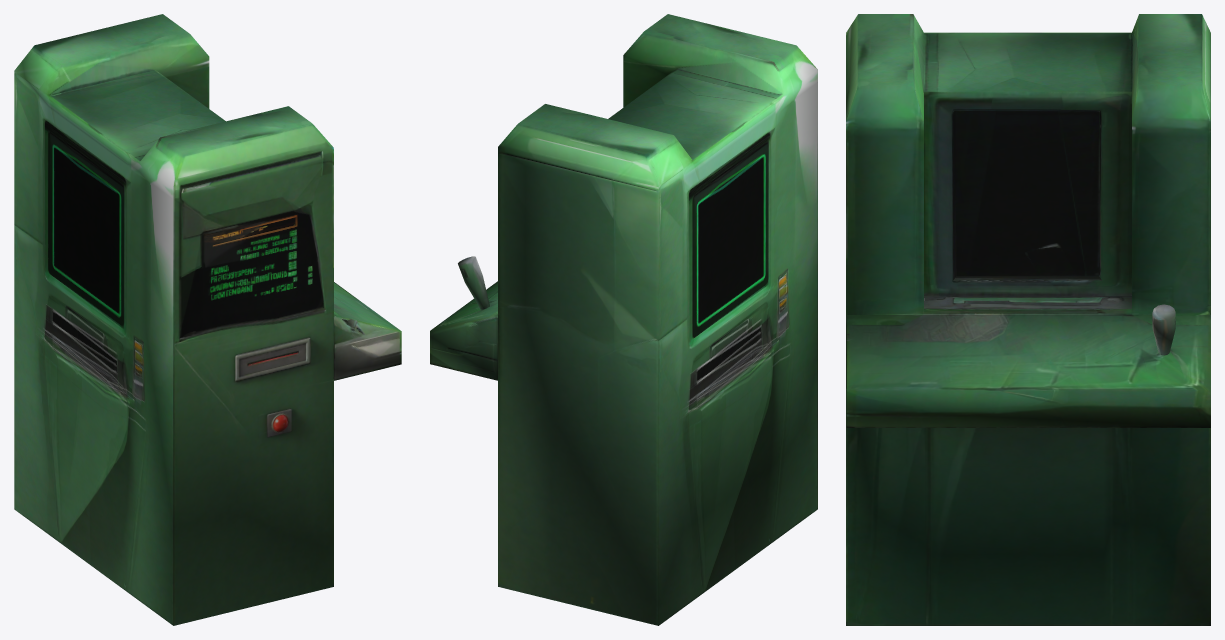
Rendered from _0609191516_texture.fbx.
The picture shows the model from 3 angles, left to right: view 1: azimuth 30°, elevation 25°; view 2: azimuth 150°, elevation 25°; view 3: azimuth 270°, elevation 25°; orthographic projection. The views are drawn at different scales.
Parts seen in each view (by area): view 1: pCube23; view 2: pCube23; view 3: pCube23.
Part boxes in pixels (x1,y1,x2,y2): pCube23: (14,14,401,625); pCube23: (430,14,817,625); pCube23: (846,14,1210,625).
Size of the model in its own units: 103 by 200 by 125.
Materials: 1 (1 with a texture image).
